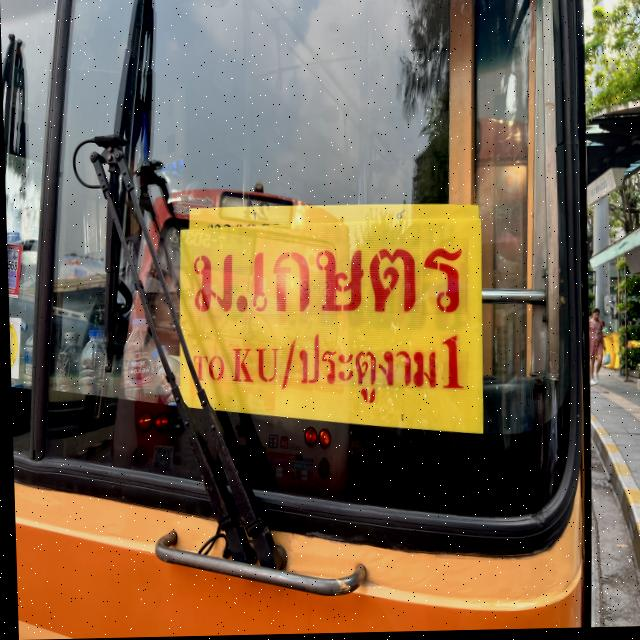BMTA-bus: (0, 0, 600, 640)
Destination-Sign-Extra-Bus-Expressway: (179, 226, 482, 441)
